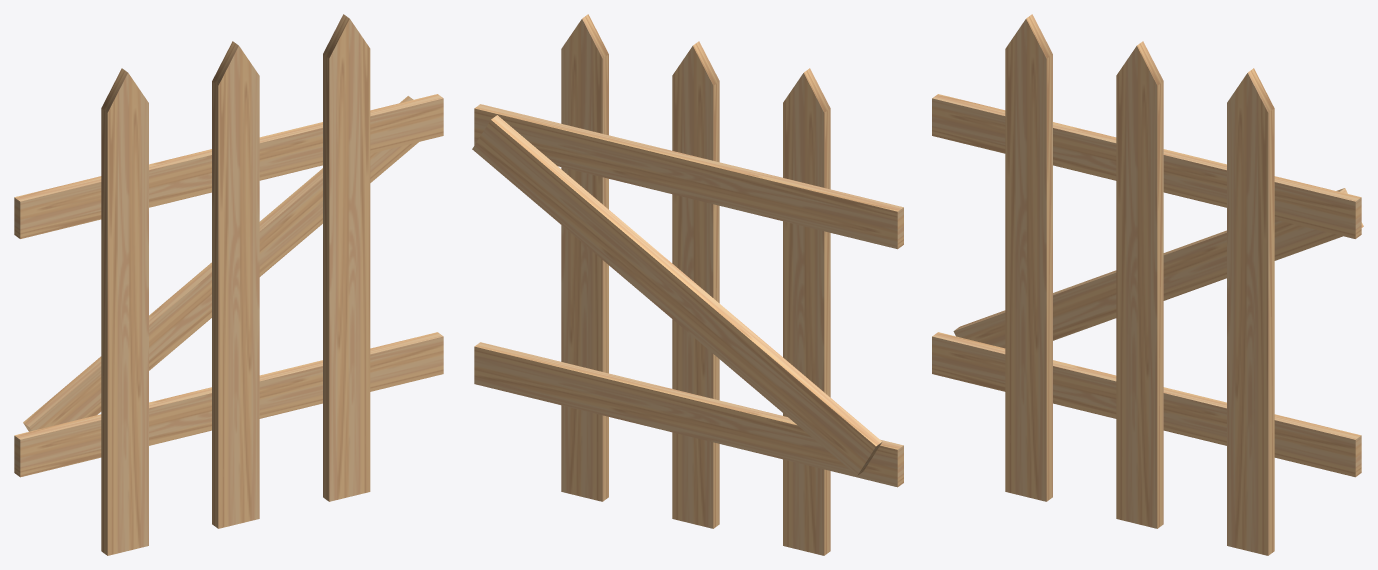
Rendered from PicketFence_1.fbx.
3 renders of one model, left to right at view 1: azimuth 30°, elevation 25°; view 2: azimuth 150°, elevation 25°; view 3: azimuth 330°, elevation 25°, orthographic.
Parts seen in each view (by area): view 1: Maya_File_Assets:TexturedAssetsCurrent:QuentonAssets02:Woode; view 2: Maya_File_Assets:TexturedAssetsCurrent:QuentonAssets02:Woode; view 3: Maya_File_Assets:TexturedAssetsCurrent:QuentonAssets02:Woode.
Boxes of the visible parts, box(x1,y1,x2,y2) form: Maya_File_Assets:TexturedAssetsCurrent:QuentonAssets02:Woode: box(14, 14, 443, 555); Maya_File_Assets:TexturedAssetsCurrent:QuentonAssets02:Woode: box(472, 14, 903, 555); Maya_File_Assets:TexturedAssetsCurrent:QuentonAssets02:Woode: box(932, 14, 1363, 555).
Size of the model in its own units: 1.21 by 1.3 by 0.0964.
